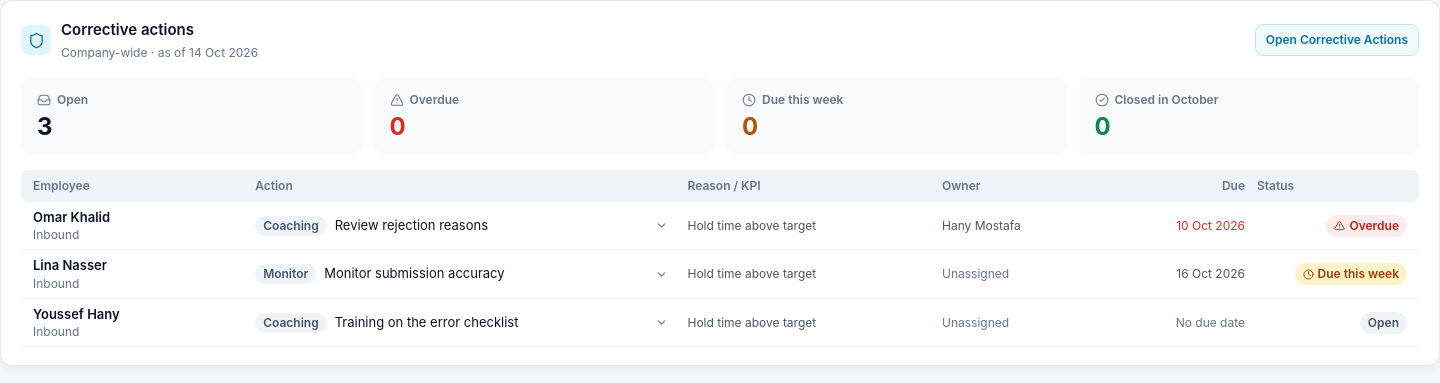
Test case: CorrectiveActionsCard tiles as filters › filters to overdue actions from the tile, marks it active, and returns to all
expect the number of rows with test id "action-row" is 3: met, box [21, 202, 1419, 250]; [21, 250, 1419, 299]; [21, 299, 1419, 347]
Click the button with test id "action-tile-overdue" at (434, 99), box [374, 78, 714, 154]
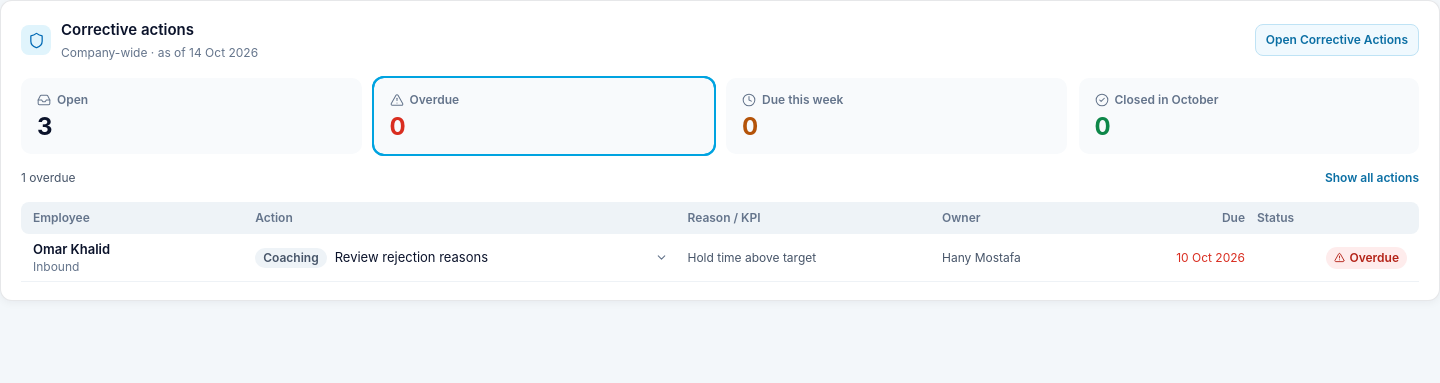
expect the number of rows with test id "action-row" is 1: met, box [21, 234, 1419, 282]
expect the text "1 overdue" is shown: met, box [21, 170, 76, 186]
Click the button "Show all actions" at (1372, 178), box [1325, 170, 1419, 186]
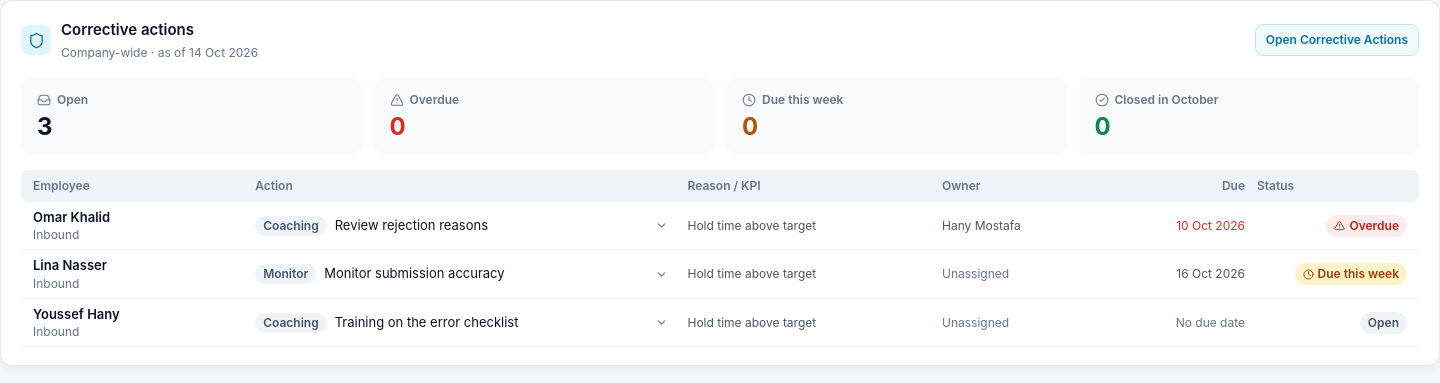
expect the number of rows with test id "action-row" is 3: met, box [21, 202, 1419, 250]; [21, 250, 1419, 299]; [21, 299, 1419, 347]
